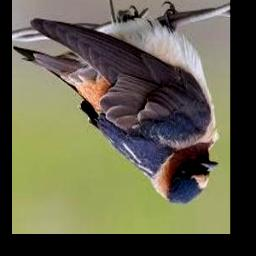Swallow: (13, 16, 219, 205)
